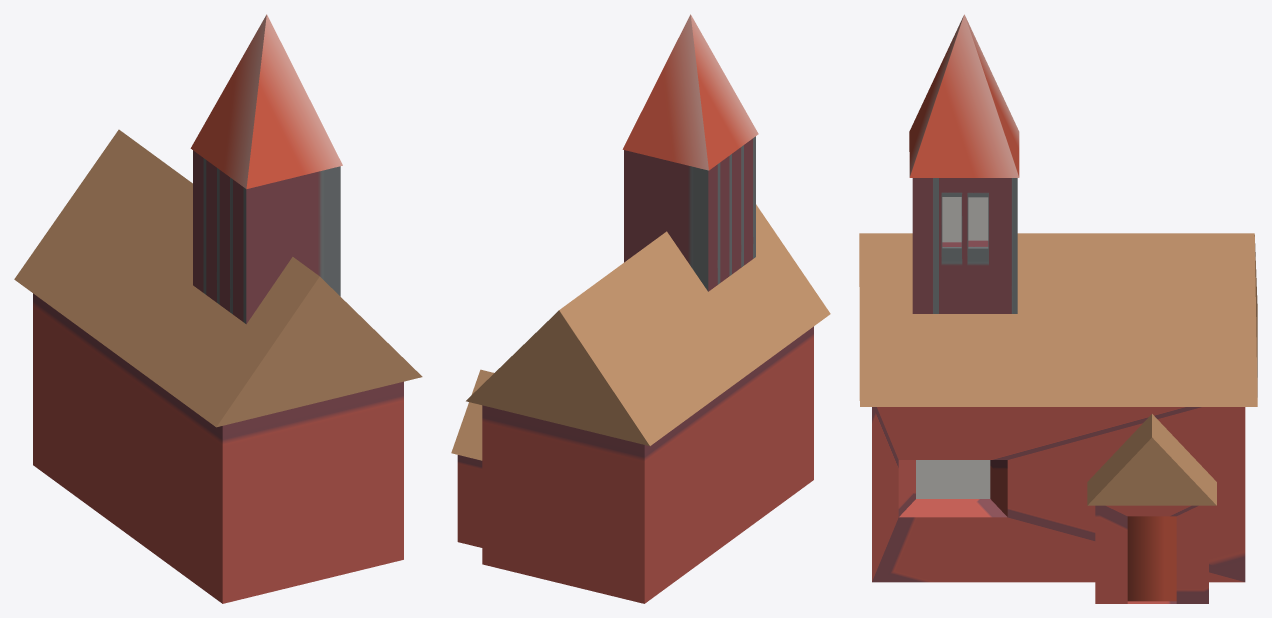
The model's file is Casa5.fbx.
The picture shows the model from 3 angles, left to right: view 1: azimuth 30°, elevation 25°; view 2: azimuth 150°, elevation 25°; view 3: azimuth 270°, elevation 25°; orthographic projection. The views are drawn at different scales.
Parts seen in each view (by area): view 1: CasasMediavais.005; view 2: CasasMediavais.005; view 3: CasasMediavais.005.
Boxes of the visible parts, x1=… form: CasasMediavais.005: x1=14, y1=14, x2=422, y2=603; CasasMediavais.005: x1=451, y1=14, x2=830, y2=603; CasasMediavais.005: x1=859, y1=14, x2=1257, y2=603.
Size of the model in its own units: 2024 by 4238 by 2915.
